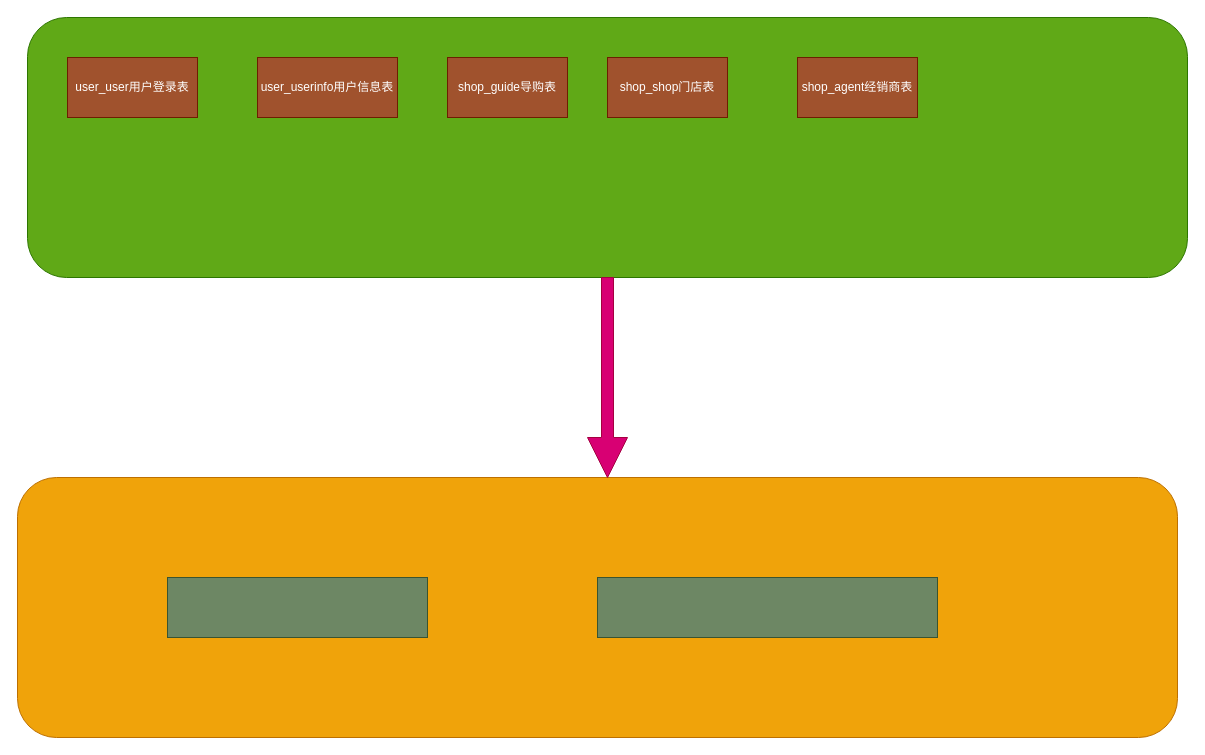
This 1205x755 diagram has some shape labels left out. The shapes that lost their labels are listed below. From the top down, each one's centre as x and y in pixels, then its label:
At pixel 297 607: "fh_salesperson_relationship".
At pixel 767 607: "fh_offline_shop_store_relationship".
